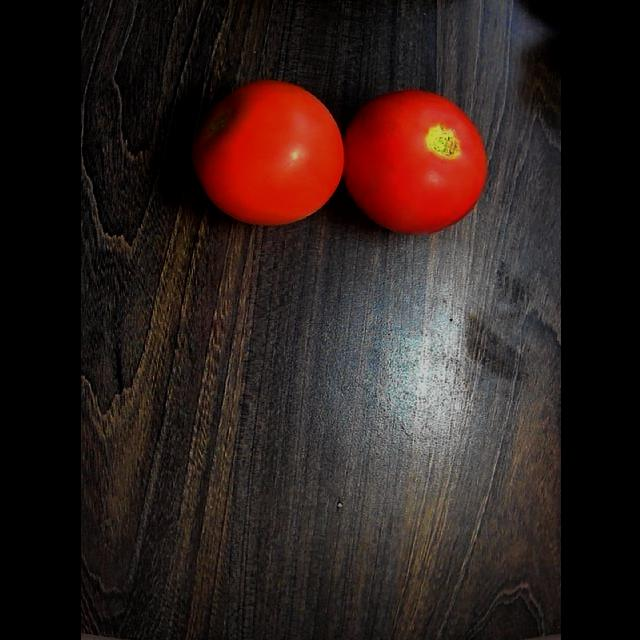tomate: (192, 81, 343, 225), (343, 90, 486, 234)
